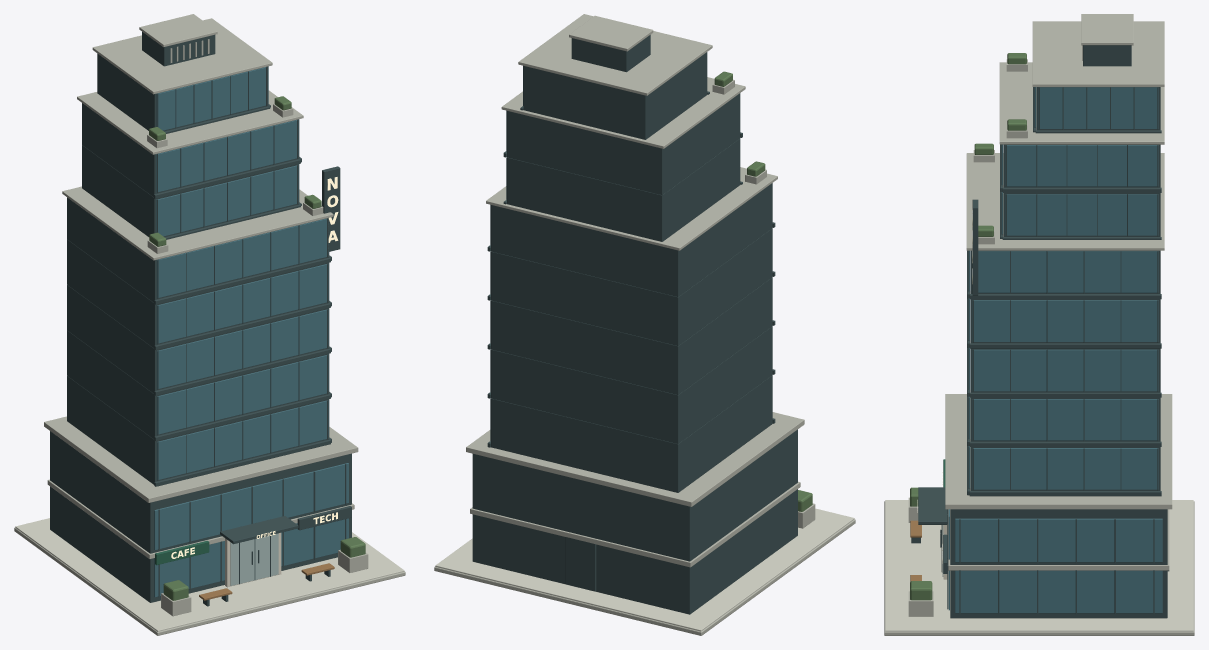
The model's file is large-4x4-office-nova-08.glb.
3 renders of one model, left to right at view 1: azimuth 30°, elevation 25°; view 2: azimuth 150°, elevation 25°; view 3: azimuth 270°, elevation 25°, orthographic. The views are drawn at different scales.
Parts seen in each view (by area): view 1: RetailPodium, Plaza, PodiumFrontGlass.001, OfficeFrontGlass.004, OfficeFrontGlass, OfficeFrontGlass.001, OfficeFrontGlass.002, OfficeFrontGlass.003, PodiumTop, OfficeFrontGlass.006, OfficeFrontGlass.005, SetbackCap.002 (+27 smaller); view 2: RetailPodium, OfficeFloor.001, OfficeFloor.002, OfficeFloor, OfficeFloor.003, OfficeFloor.004, OfficeFloor.005, OfficeFloor.006, OfficeFloor.007, Plaza, SetbackCap.002, PodiumTop (+7 smaller); view 3: Plaza, PodiumSideGlass.001, PodiumSideGlass, OfficeSideGlass.002, OfficeSideGlass, OfficeSideGlass.001, OfficeSideGlass.003, OfficeSideGlass.004, PodiumTop, SetbackCap.002, OfficeSideGlass.005, OfficeSideGlass.006 (+28 smaller).
Boxes of the visible parts, left/top/right/bottom form: RetailPodium: left=50, top=431, right=351, bottom=602; Plaza: left=15, top=518, right=404, bottom=631; PodiumFrontGlass.001: left=154, top=463, right=348, bottom=550; OfficeFrontGlass.004: left=157, top=218, right=326, bottom=298; OfficeFrontGlass: left=157, top=400, right=326, bottom=480; OfficeFrontGlass.001: left=157, top=355, right=326, bottom=434; OfficeFrontGlass.002: left=157, top=309, right=326, bottom=389; OfficeFrontGlass.003: left=157, top=264, right=326, bottom=343; PodiumTop: left=44, top=416, right=358, bottom=502; OfficeFrontGlass.006: left=156, top=120, right=296, bottom=192; OfficeFrontGlass.005: left=156, top=165, right=296, bottom=236; SetbackCap.002: left=92, top=18, right=272, bottom=94; RetailPodium: left=472, top=429, right=797, bottom=614; OfficeFloor.001: left=491, top=326, right=772, bottom=443; OfficeFloor.002: left=491, top=277, right=772, bottom=394; OfficeFloor: left=491, top=375, right=772, bottom=492; OfficeFloor.003: left=491, top=228, right=772, bottom=345; OfficeFloor.004: left=491, top=183, right=772, bottom=296; OfficeFloor.005: left=507, top=138, right=740, bottom=241; OfficeFloor.006: left=507, top=93, right=740, bottom=195; OfficeFloor.007: left=523, top=52, right=707, bottom=139; Plaza: left=435, top=508, right=854, bottom=631; SetbackCap.002: left=518, top=14, right=712, bottom=95; PodiumTop: left=466, top=412, right=804, bottom=506; Plaza: left=885, top=500, right=1193, bottom=631; PodiumSideGlass.001: left=955, top=518, right=1162, bottom=562; PodiumSideGlass: left=955, top=570, right=1162, bottom=613; OfficeSideGlass.002: left=972, top=349, right=1158, bottom=391; OfficeSideGlass: left=972, top=448, right=1158, bottom=489; OfficeSideGlass.001: left=972, top=399, right=1158, bottom=440; OfficeSideGlass.003: left=972, top=300, right=1158, bottom=341; OfficeSideGlass.004: left=978, top=251, right=1158, bottom=292; PodiumTop: left=945, top=394, right=1172, bottom=509; SetbackCap.002: left=1032, top=21, right=1164, bottom=86; OfficeSideGlass.005: left=1005, top=194, right=1158, bottom=235; OfficeSideGlass.006: left=1005, top=145, right=1158, bottom=186.
Bounding box in the file's own units: 16 × 30.85 × 16.
